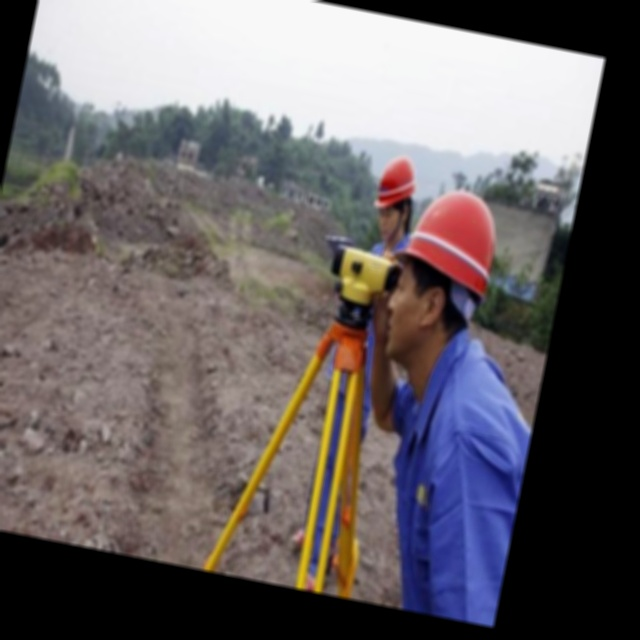Con_Casco: (366, 156, 423, 241)
